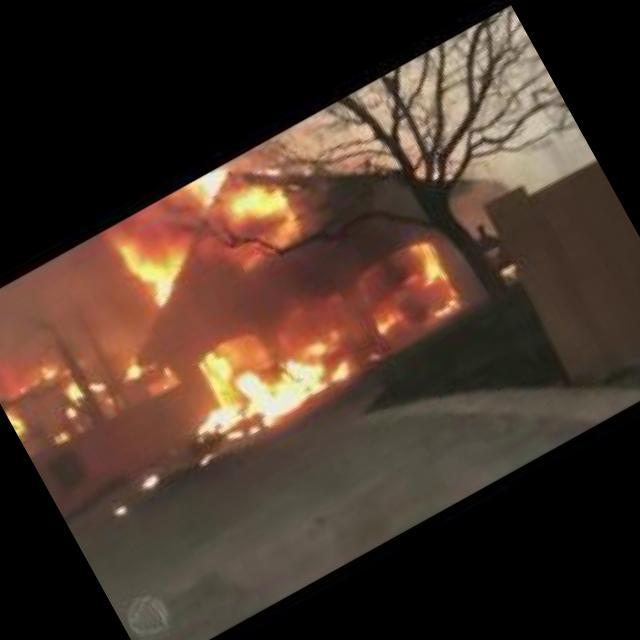fire: (173, 314, 370, 464), (357, 248, 466, 352), (106, 214, 203, 317), (210, 178, 301, 272), (54, 368, 110, 418), (24, 348, 72, 391), (0, 381, 33, 438), (116, 352, 155, 390), (140, 474, 164, 494), (110, 499, 132, 520), (0, 430, 8, 443)
